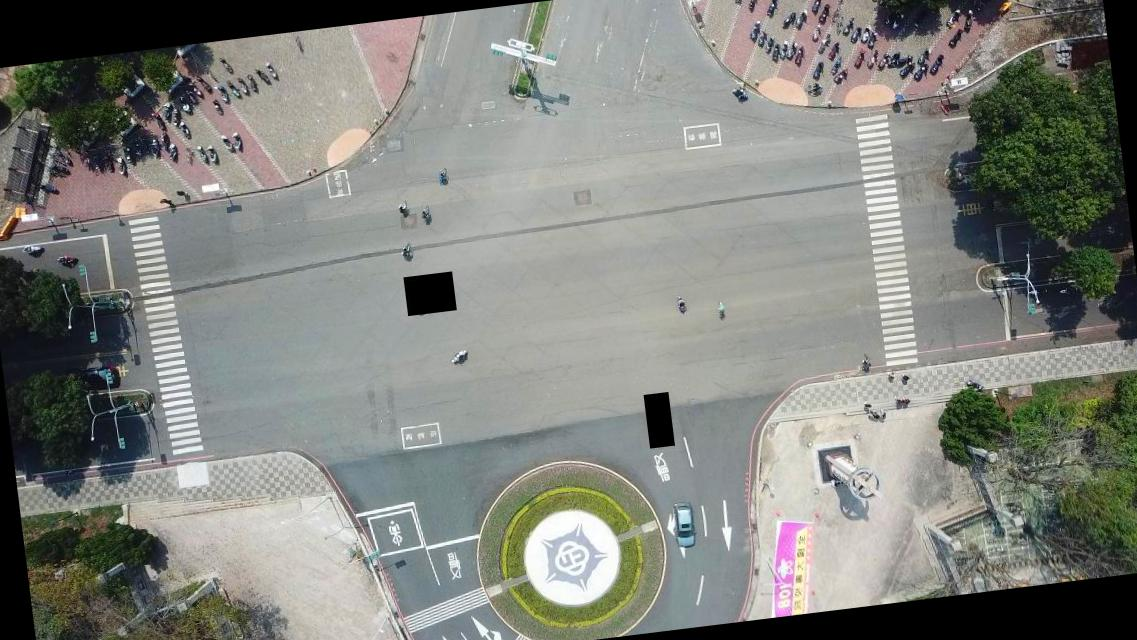vehicle: (669, 500, 697, 550), (68, 366, 116, 390)
